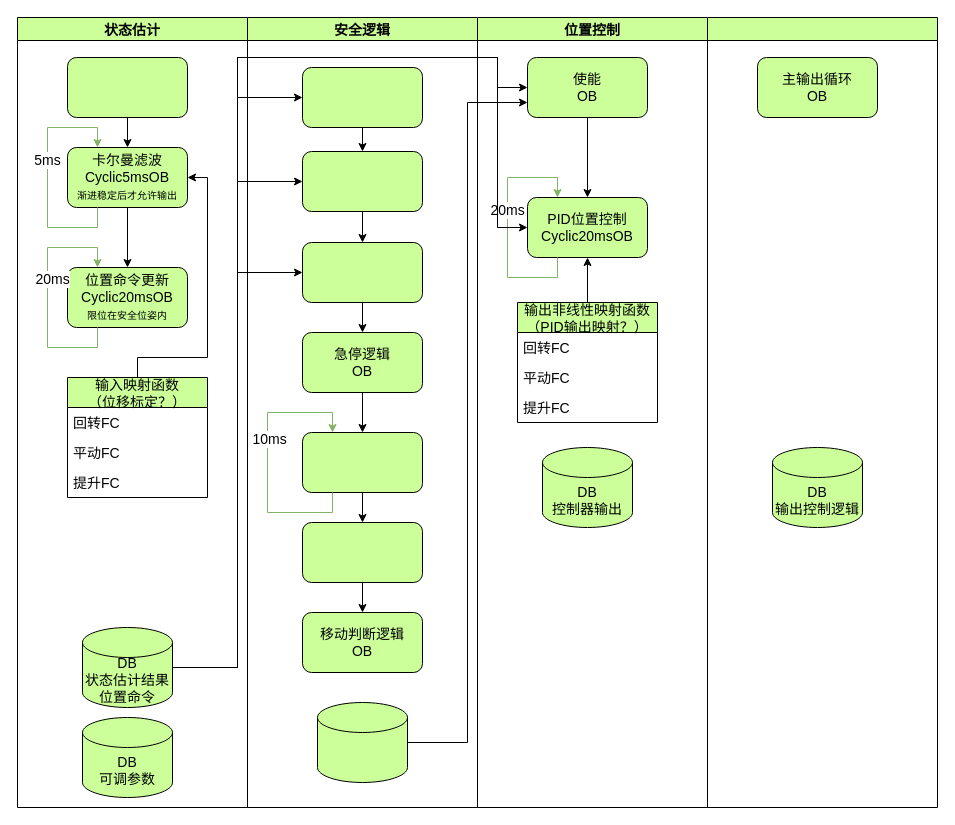
This 955x825 diagram has some shape labels left out. The shapes that lost their labels are listed below. From the top down, each one's box as (x1, y1, x2, y2) in pixels, then its label:
(66, 56, 188, 118): 状态初始化 Startup OB
(302, 66, 422, 128): 安全初始化 Startup OB
(302, 150, 422, 212): 主安全循环状态机 （安全状态机切换？） OB
(302, 242, 422, 302): 控制权切换逻辑 OB
(706, 16, 938, 808): 输出
(302, 432, 422, 492): 传感器失效 Cyclic10msOB
(302, 522, 422, 582): 位姿安全逻辑 OB
(316, 702, 408, 782): DB 安全代码
